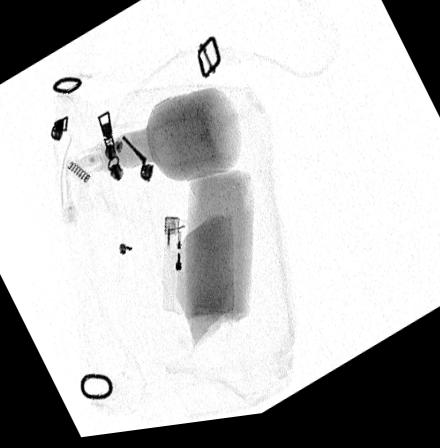Lighter: (160, 220, 190, 319)
